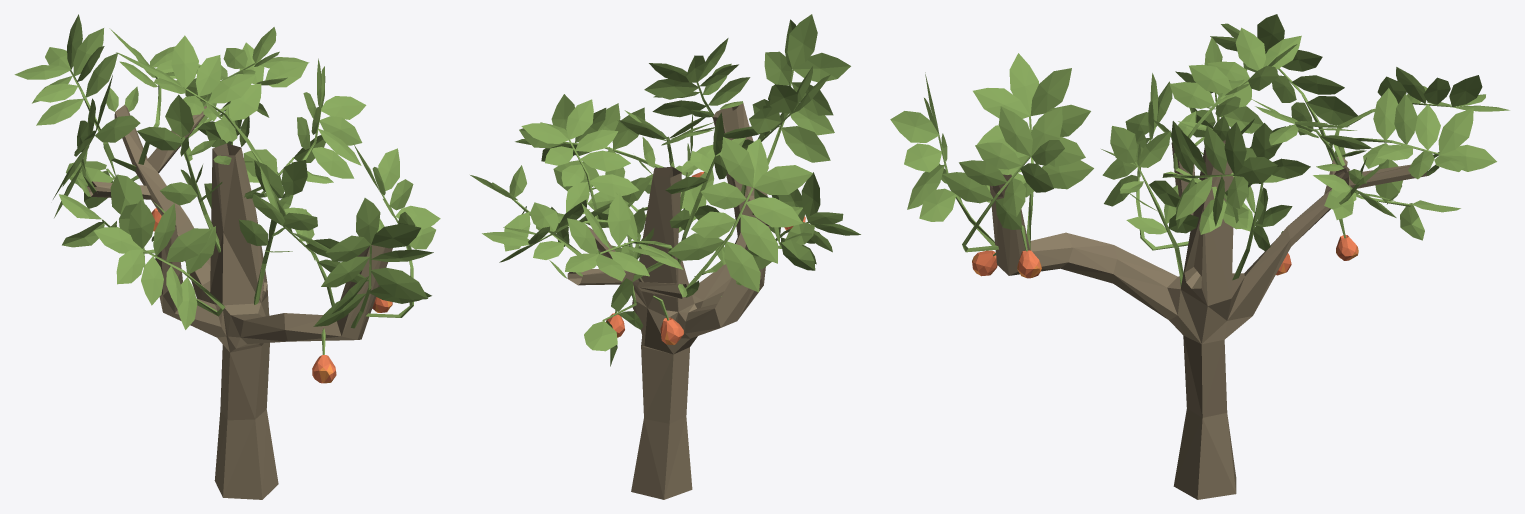
Rendered from Apple_5_1.fbx.
3 views of the same model, side by side, from view 1: azimuth 30°, elevation 25°; view 2: azimuth 150°, elevation 25°; view 3: azimuth 270°, elevation 25° (orthographic). The views are drawn at different scales.
Visible parts, largest first — view 1: Apple_5_1; view 2: Apple_5_1; view 3: Apple_5_1.
Boxes of the visible parts, box(x1,y1,x2,y2) form: Apple_5_1: box(14, 14, 440, 499); Apple_5_1: box(470, 14, 860, 499); Apple_5_1: box(890, 14, 1509, 499).
Bounding box in the file's own units: 257 × 337 × 436.
